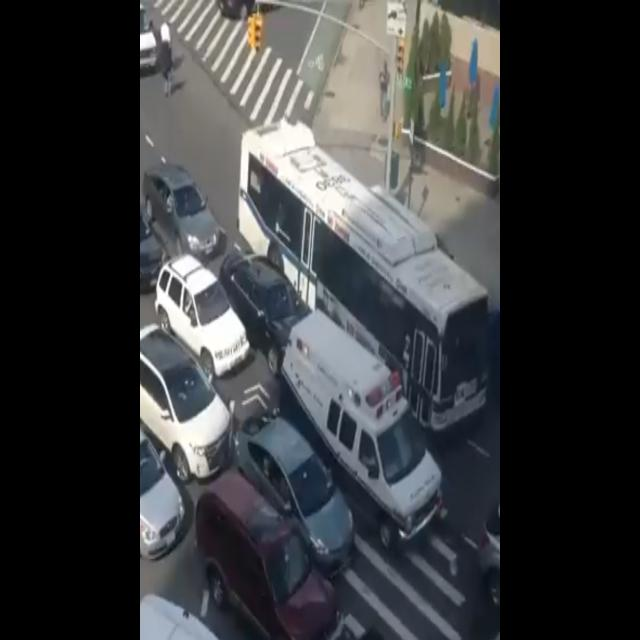Ambulance: (278, 313, 442, 549)
